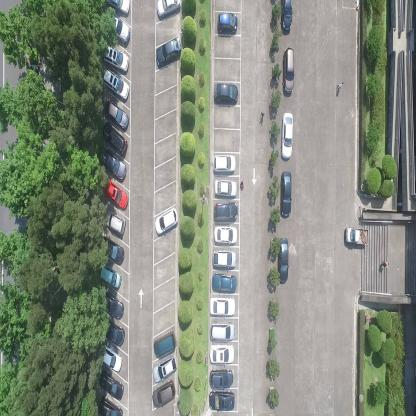car: (101, 120, 127, 157), (103, 67, 129, 101), (102, 97, 128, 131), (100, 147, 126, 181), (103, 176, 128, 211), (155, 35, 182, 67), (106, 12, 131, 46), (102, 44, 129, 73), (154, 206, 178, 238), (102, 235, 126, 266), (152, 378, 176, 408), (99, 369, 123, 399), (280, 110, 294, 160), (152, 354, 176, 383), (153, 329, 176, 359), (276, 235, 290, 284), (212, 81, 239, 106), (103, 209, 126, 238), (101, 292, 124, 321), (102, 319, 125, 348), (100, 342, 122, 372), (279, 169, 292, 218), (282, 47, 295, 96), (98, 265, 122, 290), (209, 319, 235, 342), (209, 297, 237, 318), (212, 152, 236, 175), (214, 200, 238, 223), (344, 226, 369, 248), (208, 390, 235, 410), (212, 249, 237, 270), (211, 272, 237, 292), (96, 395, 122, 415), (155, 0, 182, 19), (213, 224, 237, 245), (210, 345, 235, 365), (209, 368, 234, 388), (217, 11, 238, 34), (214, 178, 237, 198), (280, 0, 293, 35), (105, 0, 132, 15)
